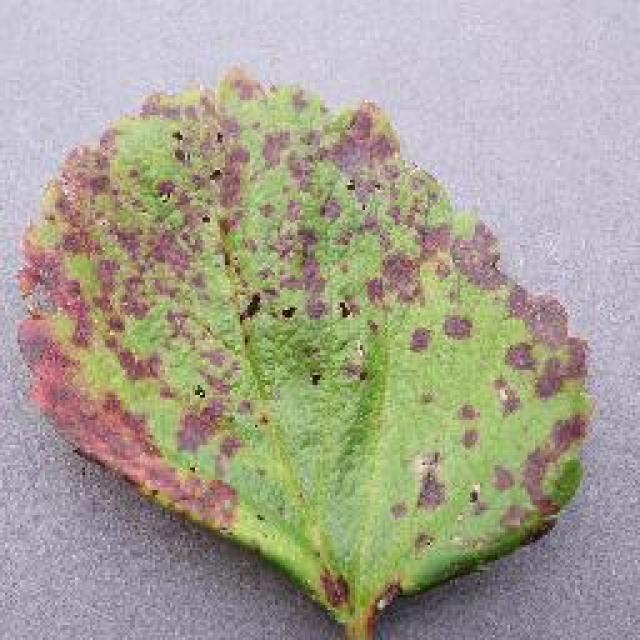Strawberry leaf scorch: (72, 192, 498, 512)
